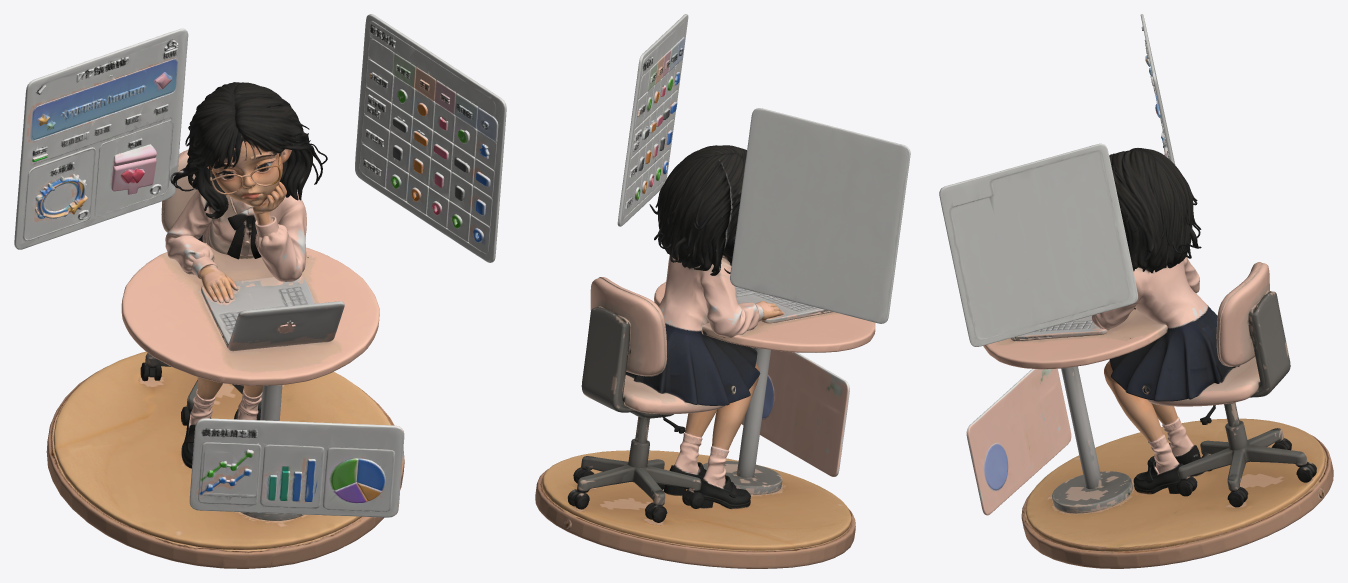
Rendered from zhuangban.glb.
The picture shows the model from 3 angles, left to right: view 1: azimuth 30°, elevation 25°; view 2: azimuth 150°, elevation 25°; view 3: azimuth 270°, elevation 25°; orthographic projection. The views are drawn at different scales.
Visible parts, largest first — view 1: tripo_node_94dfef26-13c1-43c6-93ba-34ffbf948615; view 2: tripo_node_94dfef26-13c1-43c6-93ba-34ffbf948615; view 3: tripo_node_94dfef26-13c1-43c6-93ba-34ffbf948615.
Part boxes in pixels (box(x1,y1,x2,y2)): tripo_node_94dfef26-13c1-43c6-93ba-34ffbf948615: box(14, 14, 506, 568); tripo_node_94dfef26-13c1-43c6-93ba-34ffbf948615: box(535, 14, 910, 568); tripo_node_94dfef26-13c1-43c6-93ba-34ffbf948615: box(939, 14, 1333, 568).
Size of the model in its own units: 0.8289 by 1.04 by 0.8627.
Materials: 1 (1 with a texture image).
